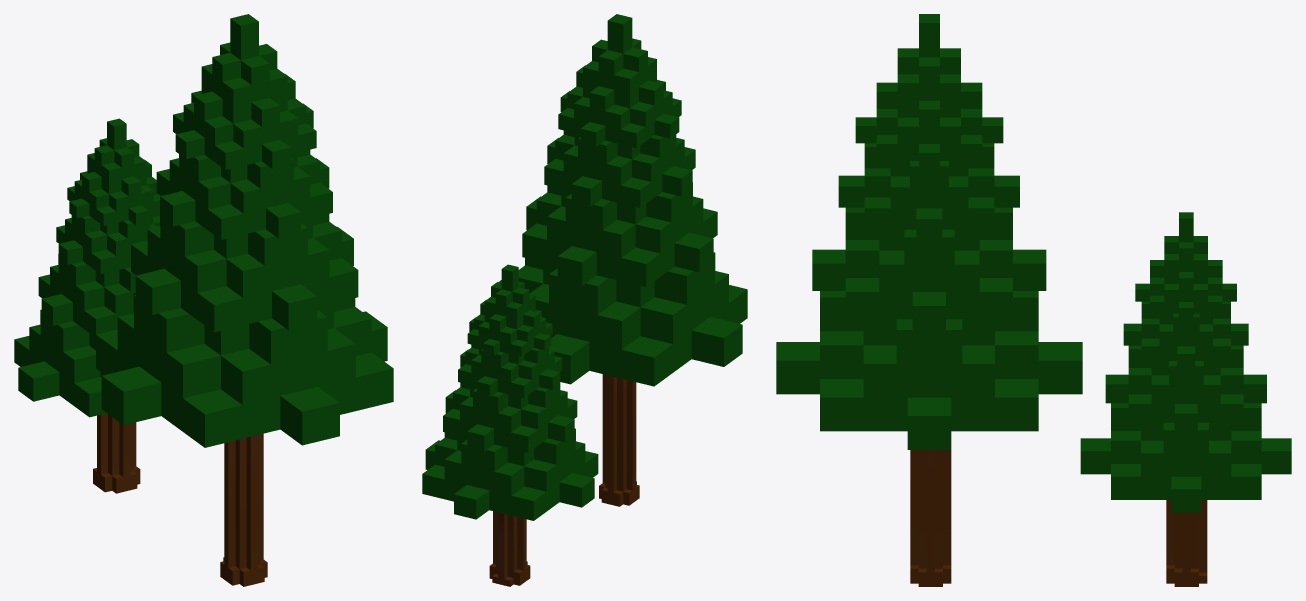
The model's file is tree11.glb.
3 renders of one model, left to right at view 1: azimuth 30°, elevation 25°; view 2: azimuth 150°, elevation 25°; view 3: azimuth 270°, elevation 25°, orthographic. The views are drawn at different scales.
Visible parts, largest first — view 1: geometry_0; view 2: geometry_0; view 3: geometry_0.
Boxes of the visible parts, x1,y1,x2,y2 form: geometry_0: (14,14,393,586); geometry_0: (422,14,747,586); geometry_0: (776,14,1291,586).
Bounding box in the file's own units: 6.88 × 13.87 × 11.57.
Materials: 1 (1 with a texture image).
